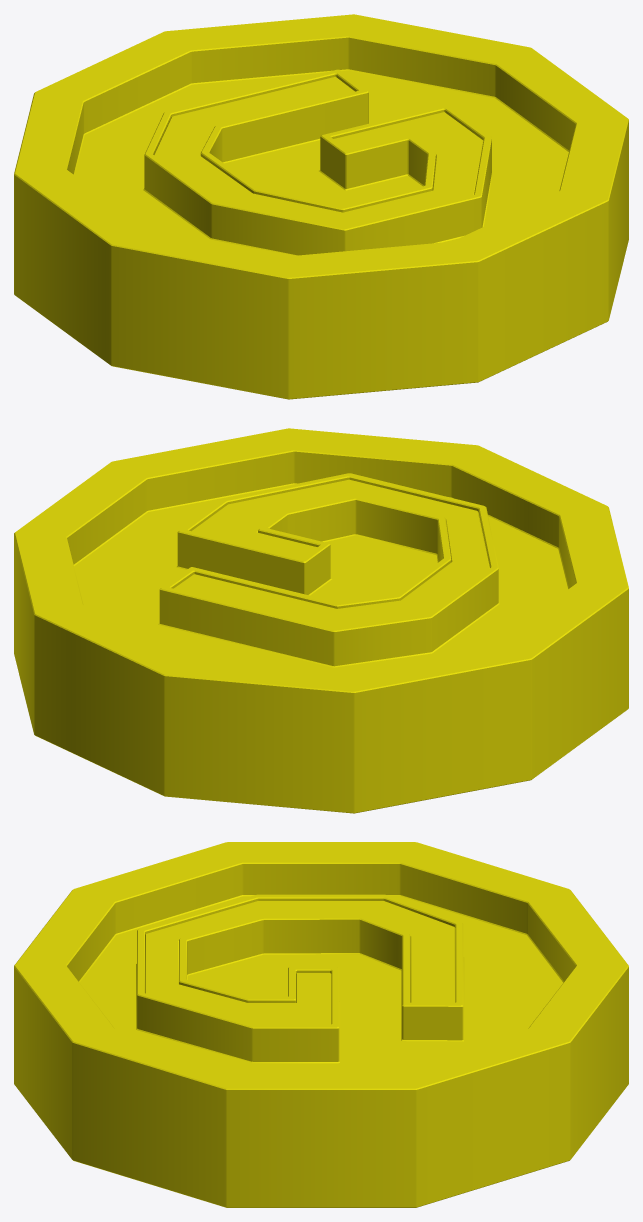
File: Gold Coin.fbx
3 views of the same model, one above another, from view 1: azimuth 30°, elevation 25°; view 2: azimuth 150°, elevation 25°; view 3: azimuth 270°, elevation 25° (orthographic). The views are drawn at different scales.
Visible parts, largest first — view 1: Cylinder; view 2: Cylinder; view 3: Cylinder.
Part boxes in pixels (x1=…): Cylinder: x1=14, y1=14, x2=628, y2=399; Cylinder: x1=14, y1=428, x2=628, y2=813; Cylinder: x1=14, y1=842, x2=628, y2=1207.
Bounding box in the file's own units: 103 × 23.5 × 108.
